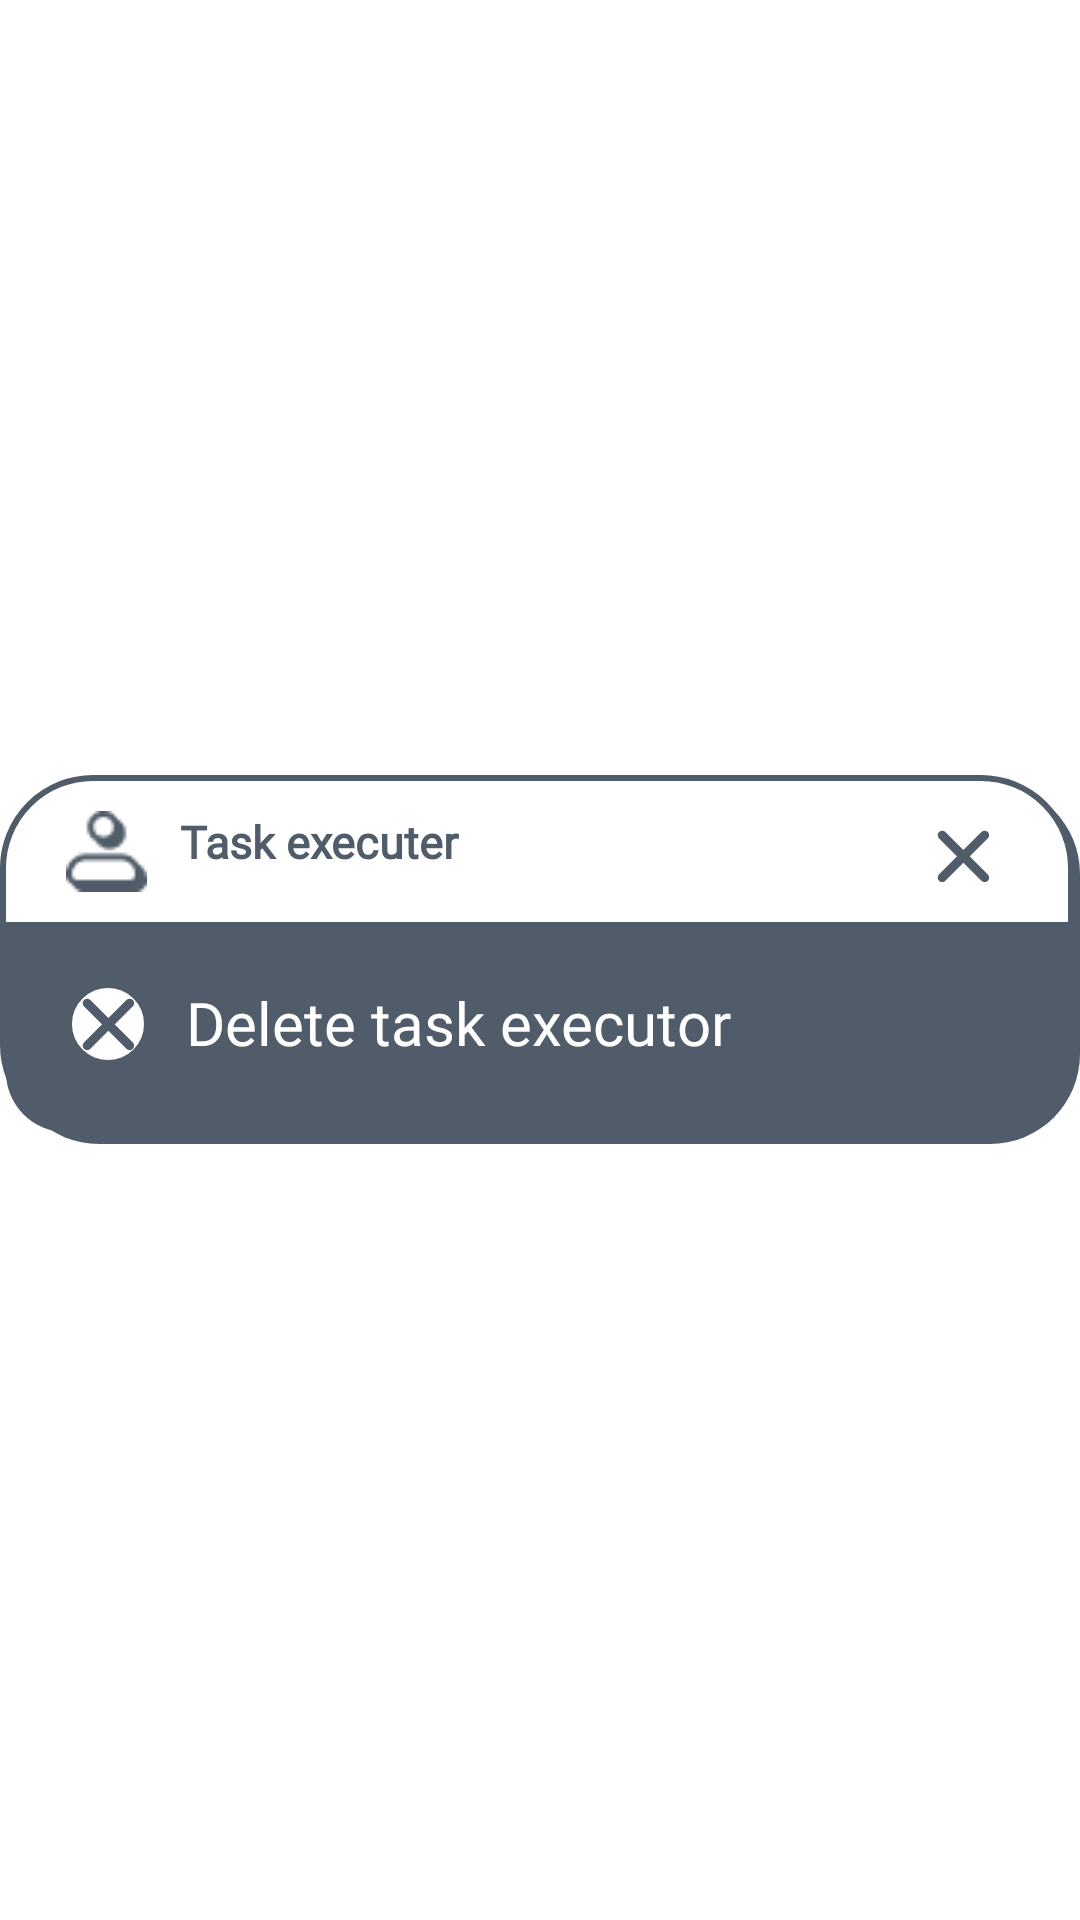

Where icons sit on this 1080x1920 app screen, as region(x1, y1, x2, y2):
cross: region(937, 830, 989, 882), region(72, 988, 144, 1060)
